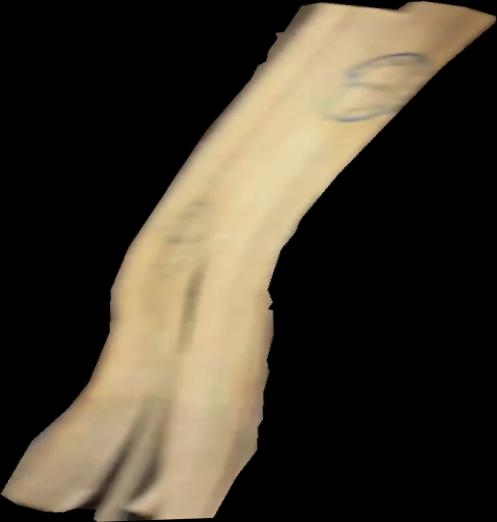backward: (1, 1, 497, 522)
